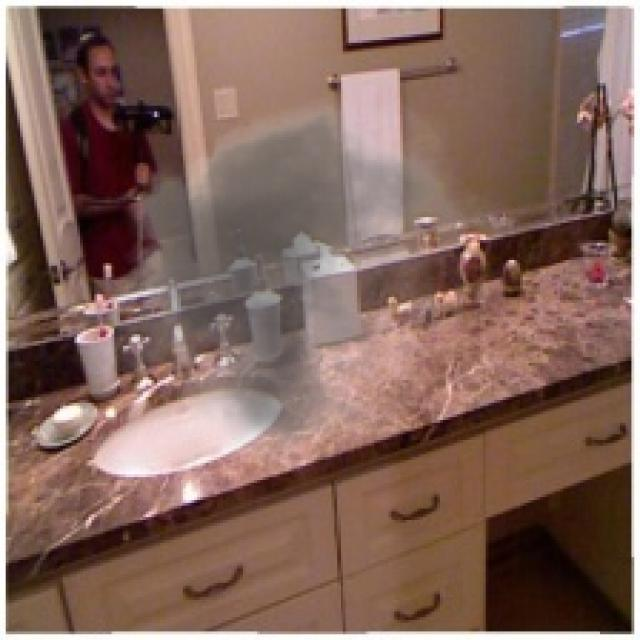Smoke: (88, 82, 514, 474)
